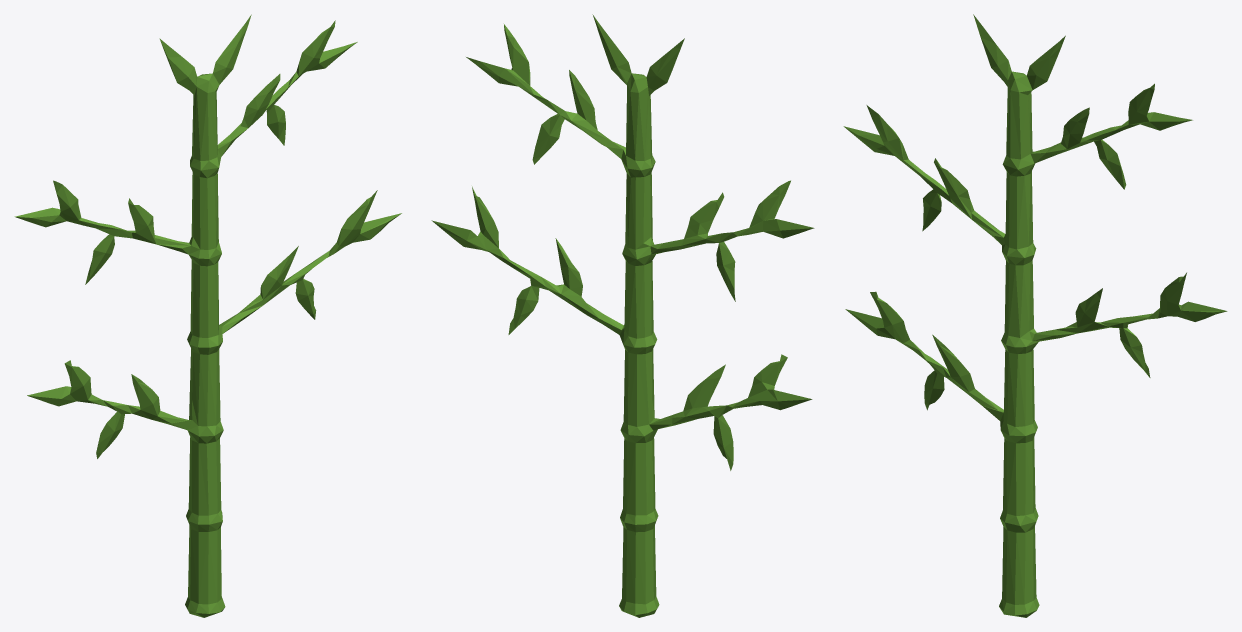
Rendered from NEW_RECOVERY_042_LOD2.glb.
3 renders of one model, left to right at view 1: azimuth 30°, elevation 25°; view 2: azimuth 150°, elevation 25°; view 3: azimuth 330°, elevation 25°, orthographic.
Parts seen in each view (by area): view 1: Bamboo_whole_connected_solid; view 2: Bamboo_whole_connected_solid; view 3: Bamboo_whole_connected_solid.
Part boxes in pixels (x1,y1,x2,y2): Bamboo_whole_connected_solid: (14,14,401,617); Bamboo_whole_connected_solid: (431,14,814,617); Bamboo_whole_connected_solid: (843,14,1227,617).
Bounding box in the file's own units: 3.29 × 4.77 × 0.3393.
